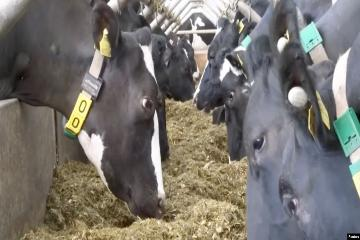cow: (60, 1, 176, 220), (246, 54, 353, 240), (194, 15, 232, 108), (217, 53, 248, 166), (164, 35, 194, 101)
